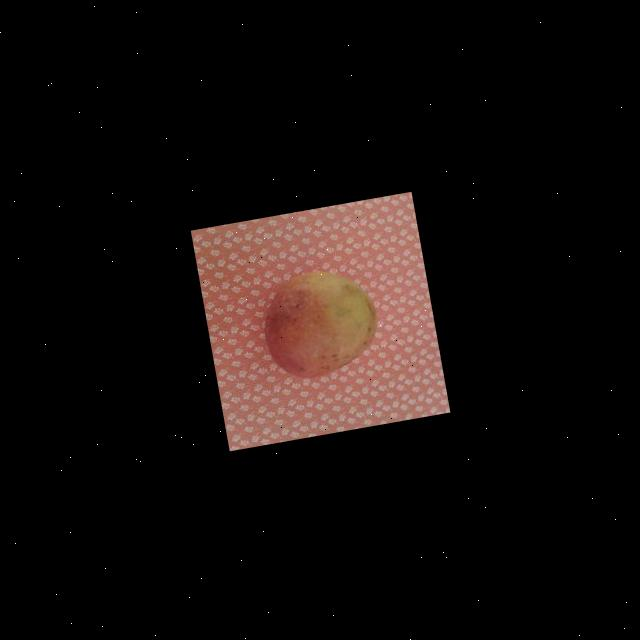Mango: (255, 261, 386, 384)
